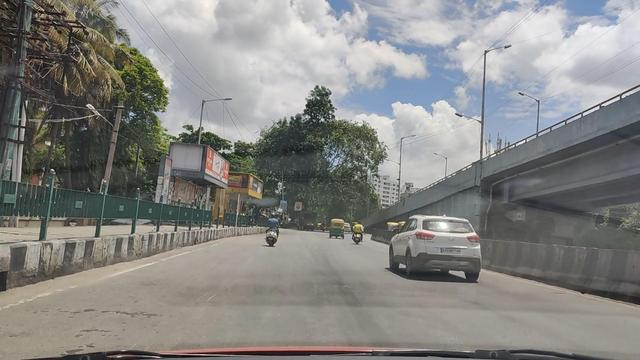LMV: (388, 205, 478, 287), (264, 207, 279, 248)
RoadDamages: (71, 291, 140, 327)
